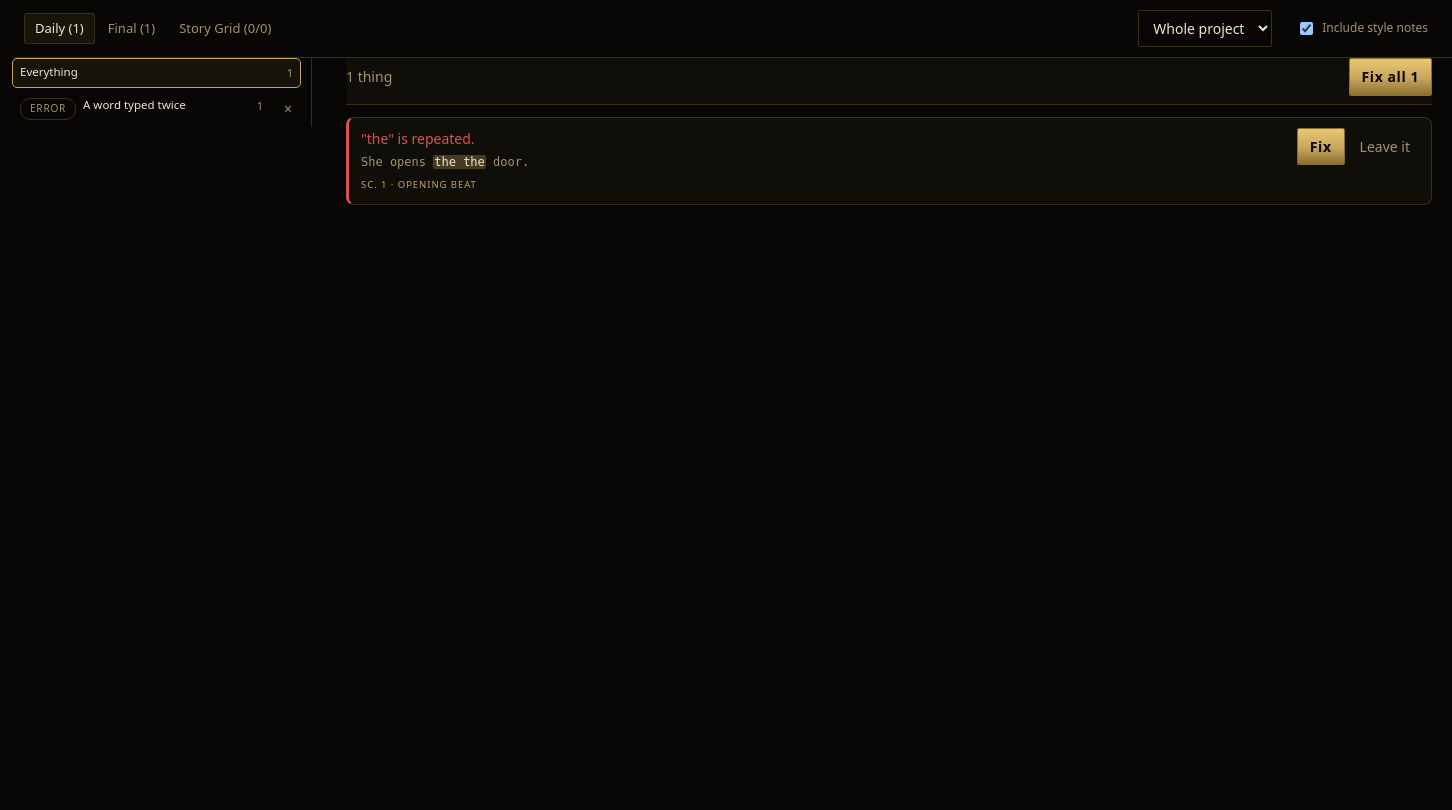
it: final editor panel › raises a scene the writer says does not move
The image size is (1452, 810).
Click the tab "Final (1)".
click(132, 28)  # box [97,13,166,44]
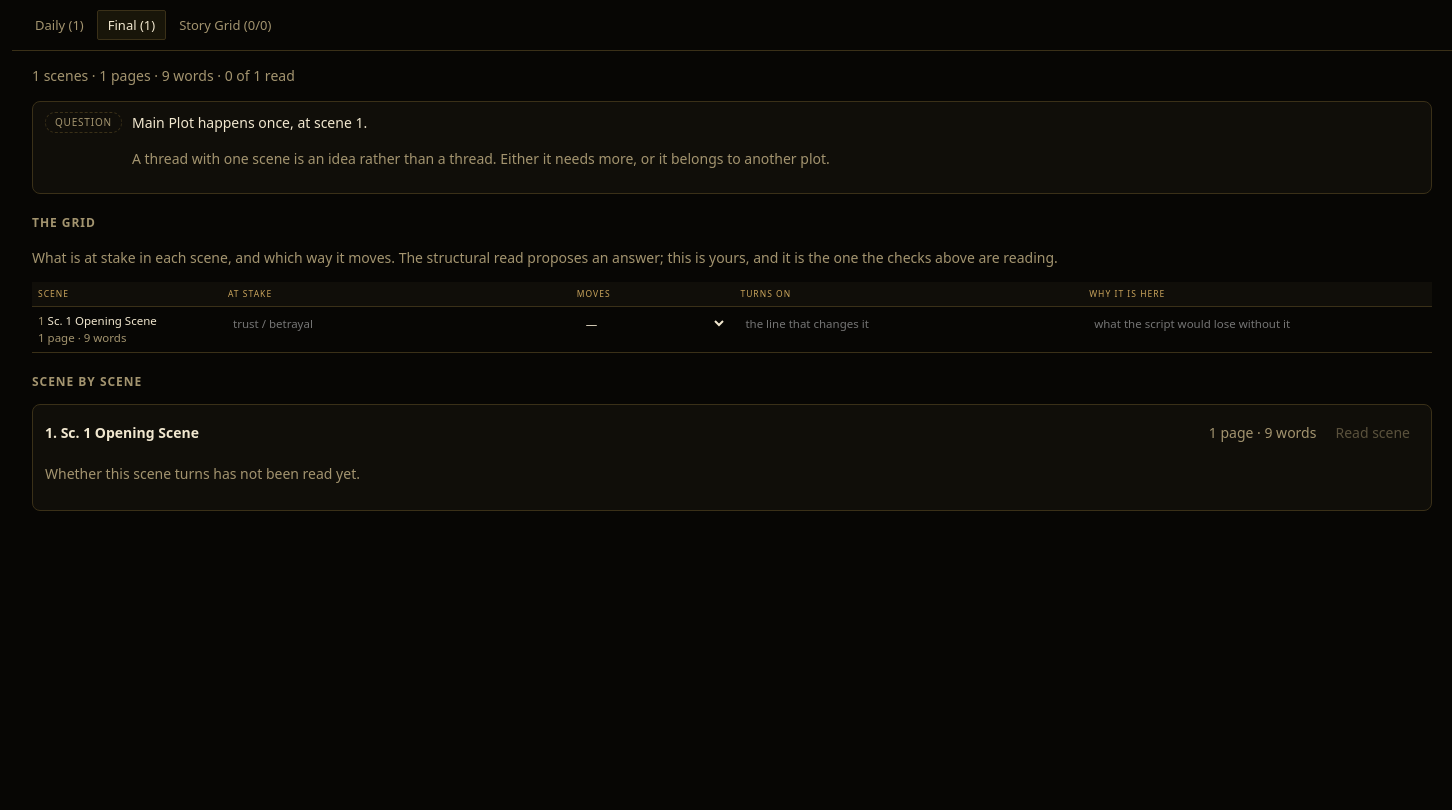
Select "Not at all" in the dropdown named "Which way Sc. 1 Opening Scene moves" at {"x": 653, "y": 323}, box [577,312,728,335]
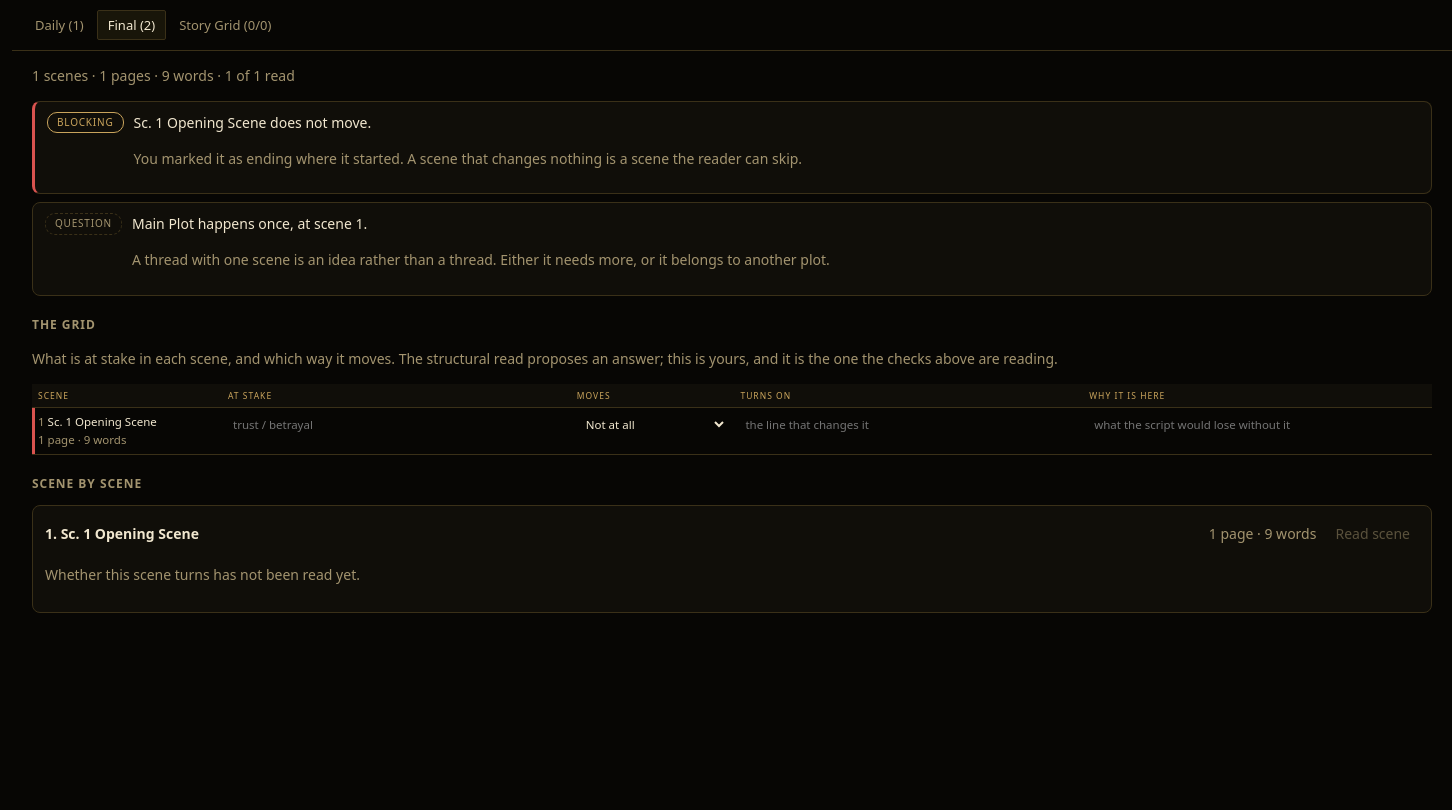
expect the row with class "grid-flat" is shown: met, box [32,408,1432,454]
expect the text "Sc. 1 Opening Scene does not move." is shown: met, box [134,113,371,132]
